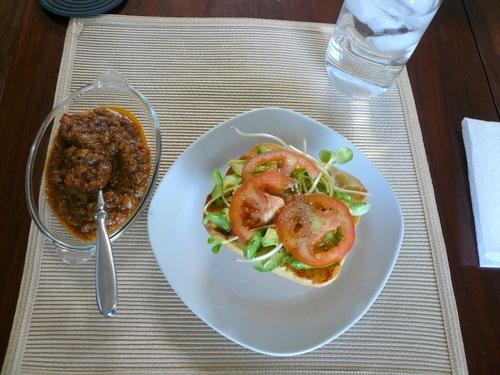tomato: (276, 192, 356, 267), (230, 172, 300, 246), (241, 150, 320, 184), (327, 165, 368, 193)
